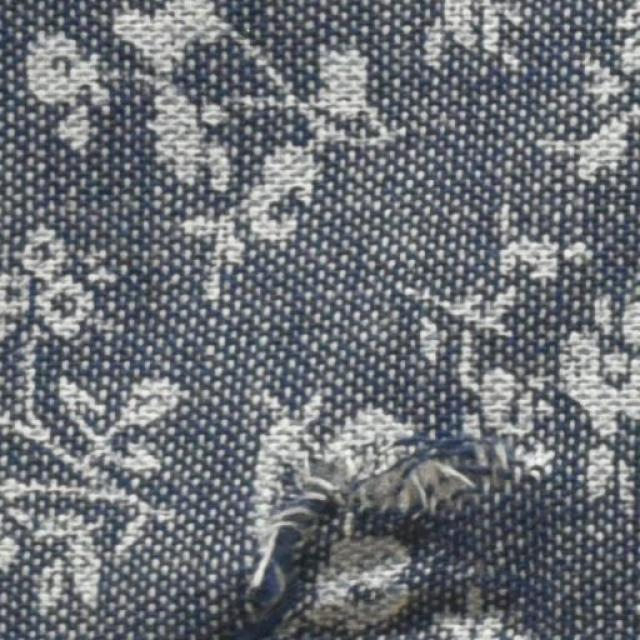Snag: (199, 416, 537, 633)
